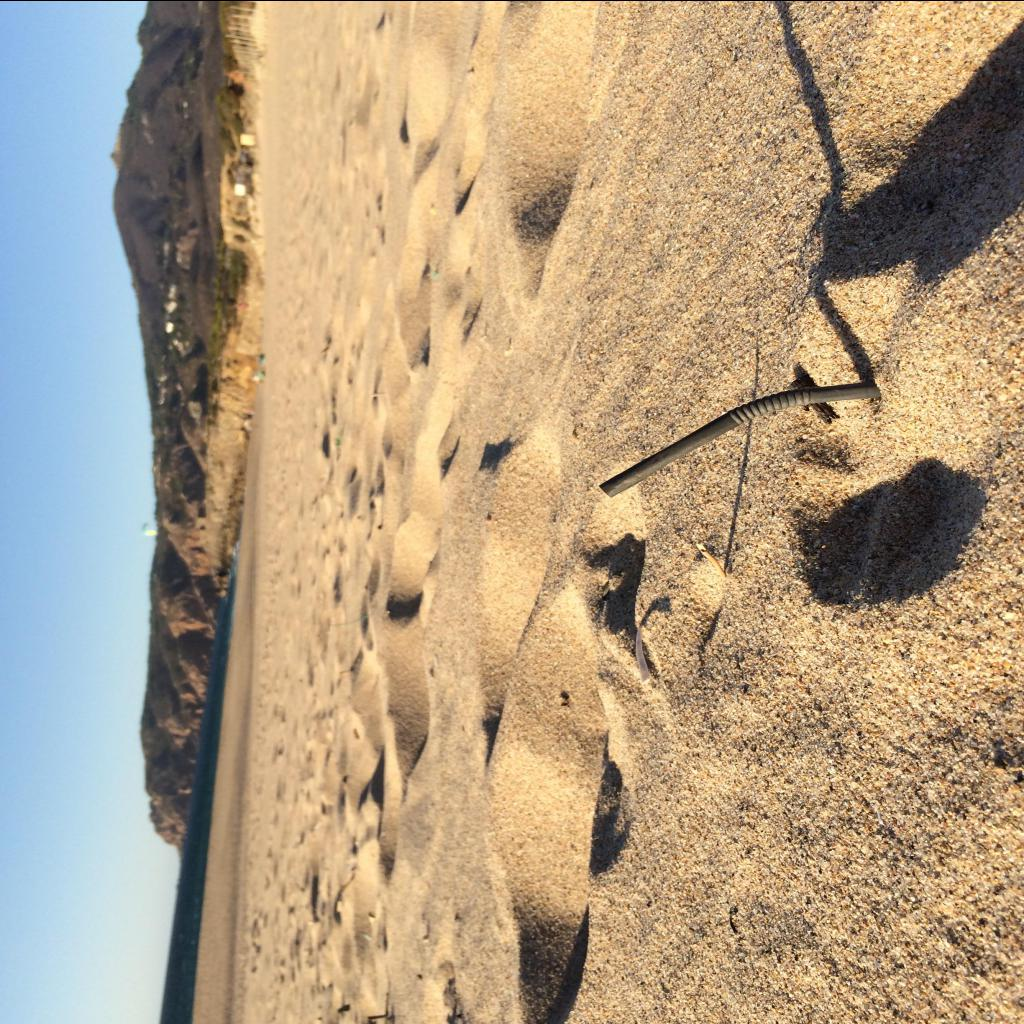Plastic straw: (598, 380, 882, 498)
